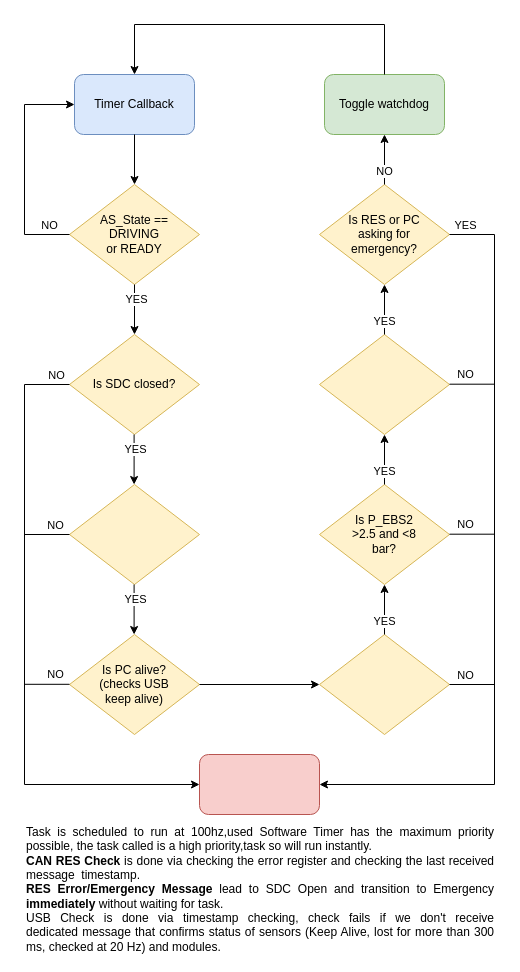
Some shapes in this 520 by 972 pixel diagram are drawn without their labels. Here are the shapes that lost their labels. From the top down, the box of each, then its label:
(318, 334, 450, 434): Is ASMS voltage >8 and <14?
(68, 484, 200, 584): Is RES alive?
(318, 634, 450, 734): Is P_EBS1 >2.5 and <8 bar?
(198, 754, 320, 814): Transition to AS_EMERGENCY and actions
